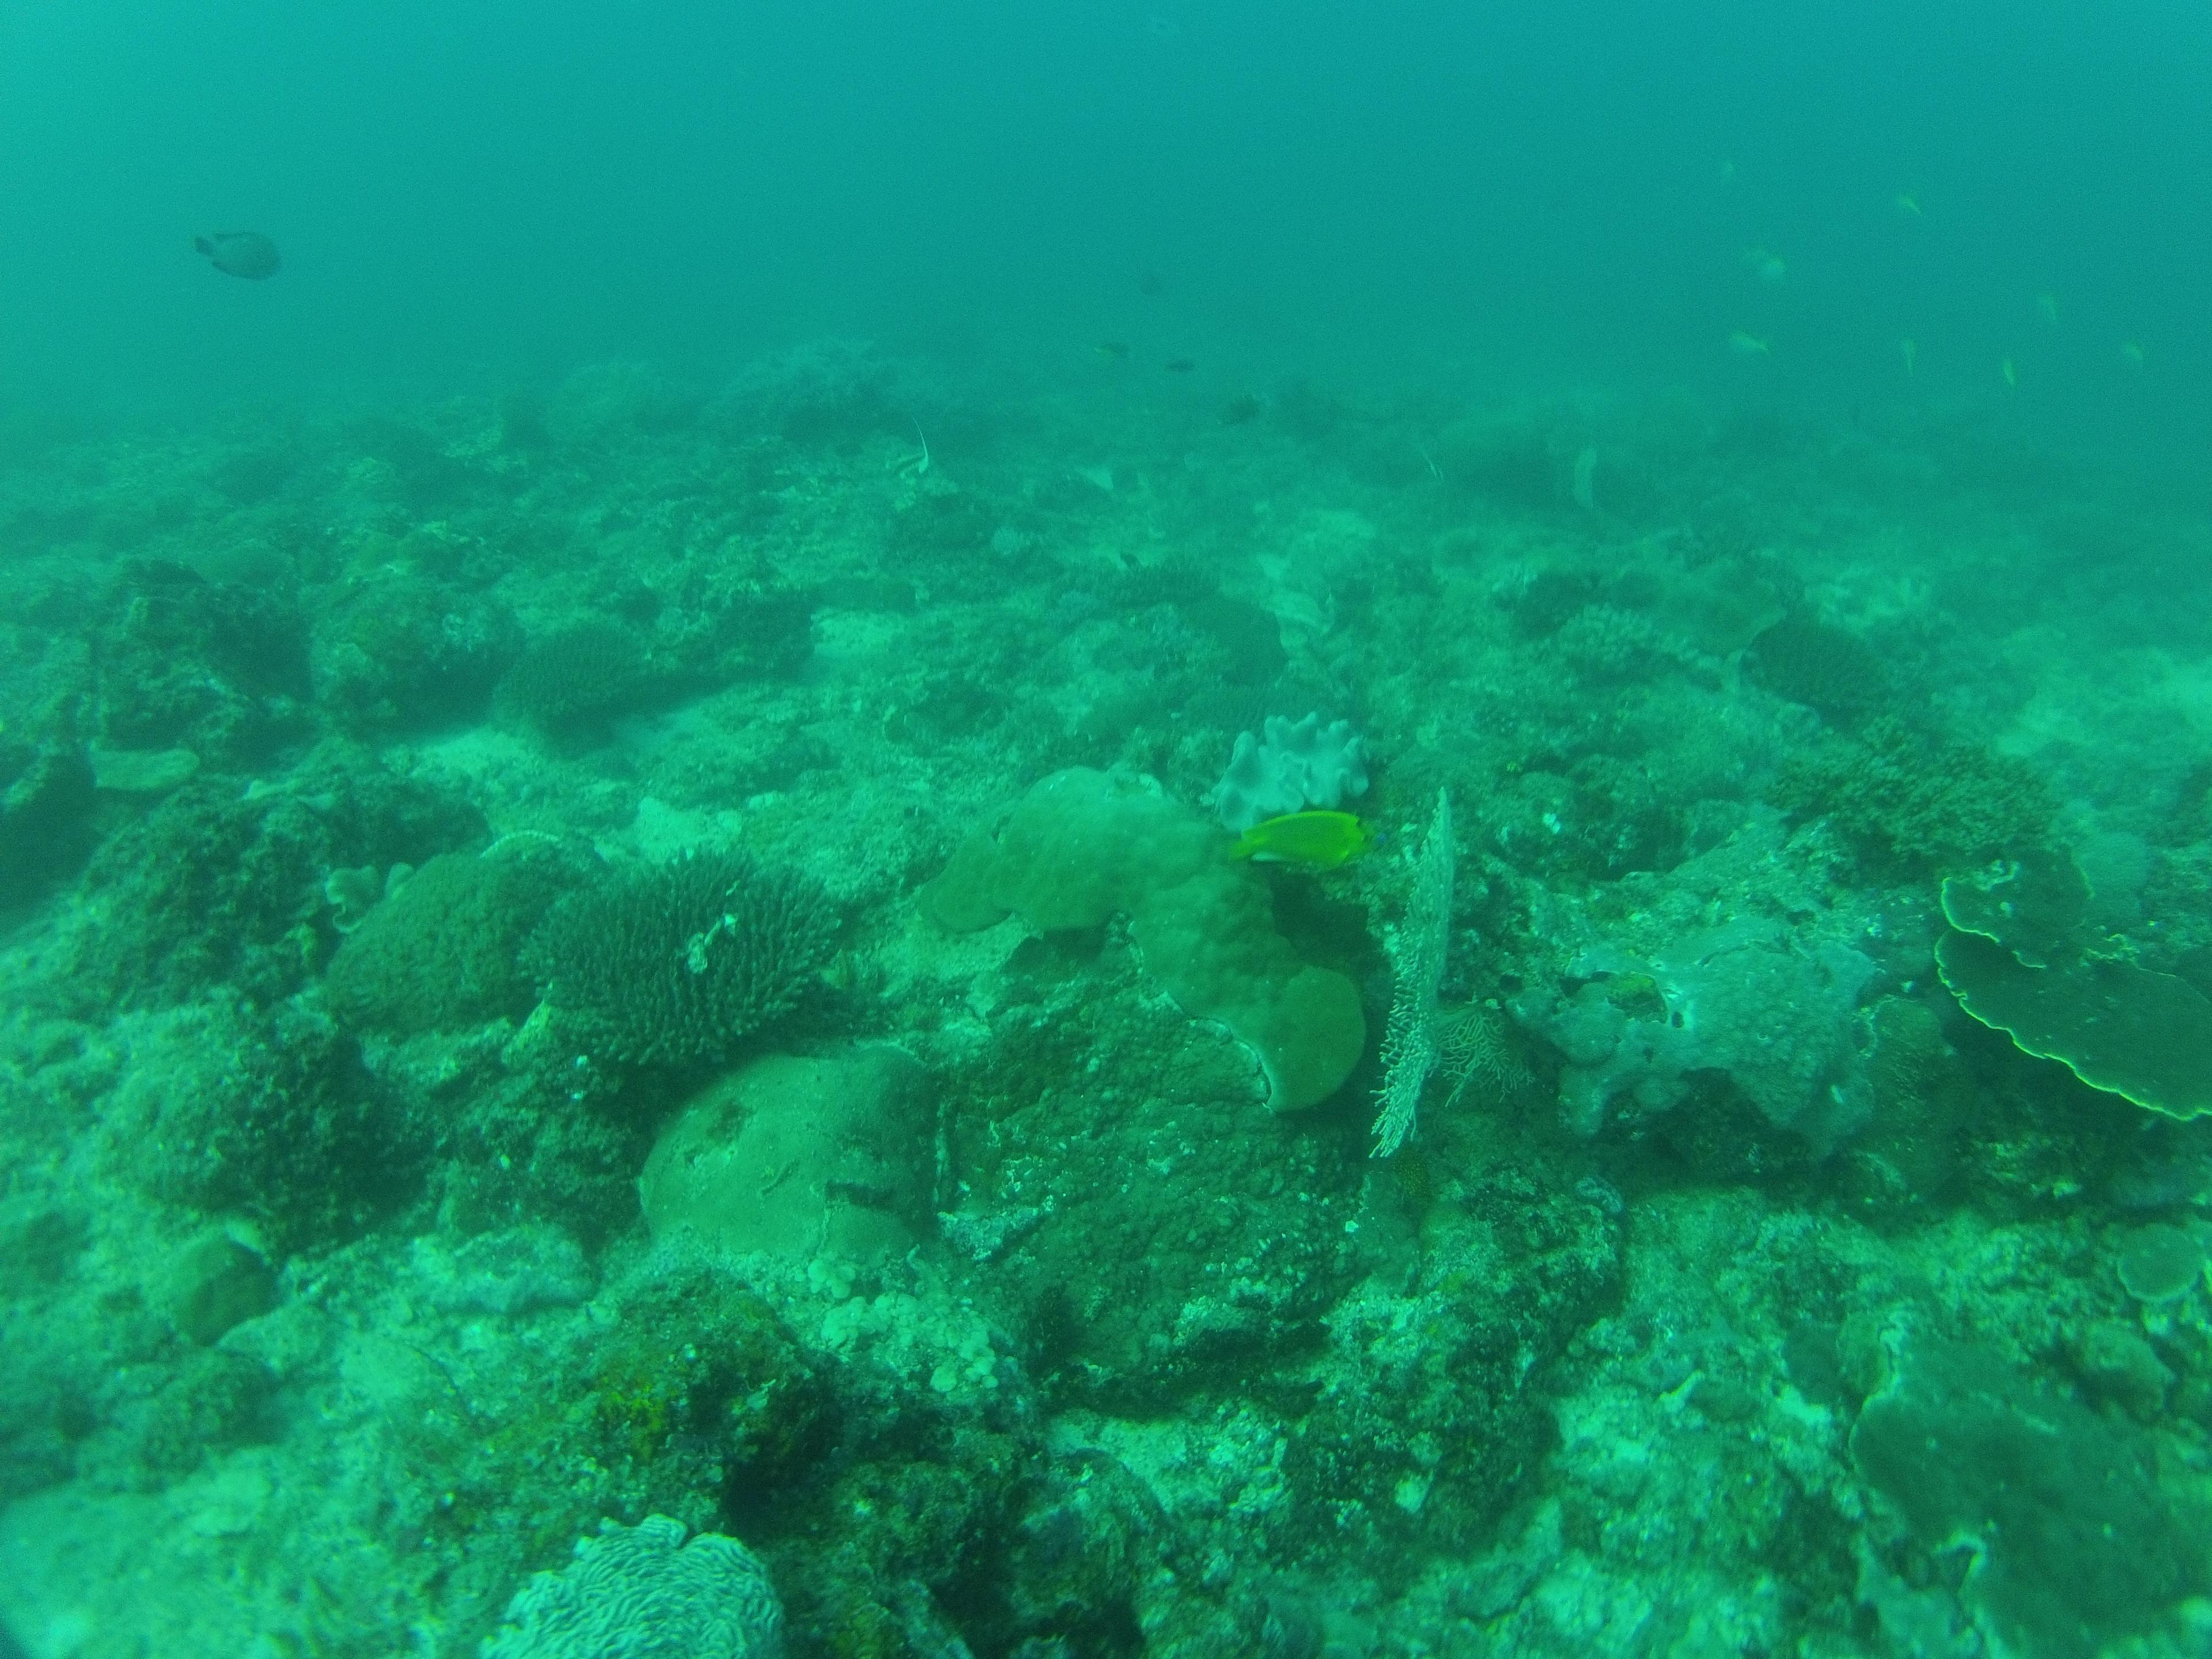Fish: (1188, 746, 1406, 918)
